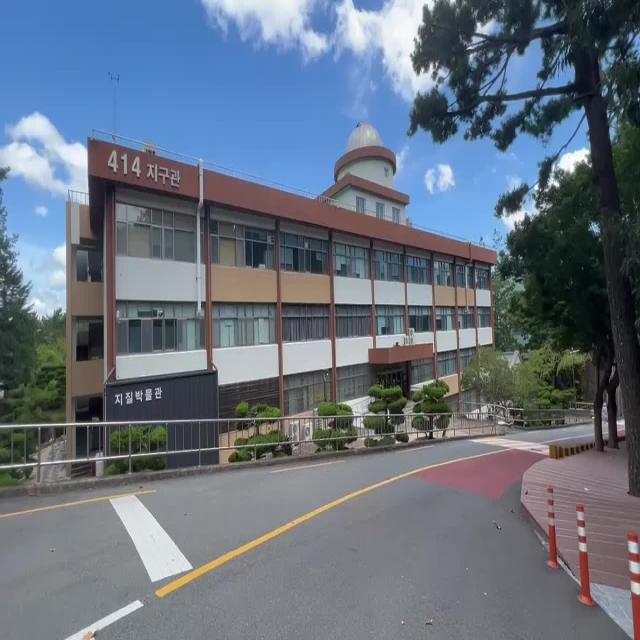building: (43, 106, 503, 402)
